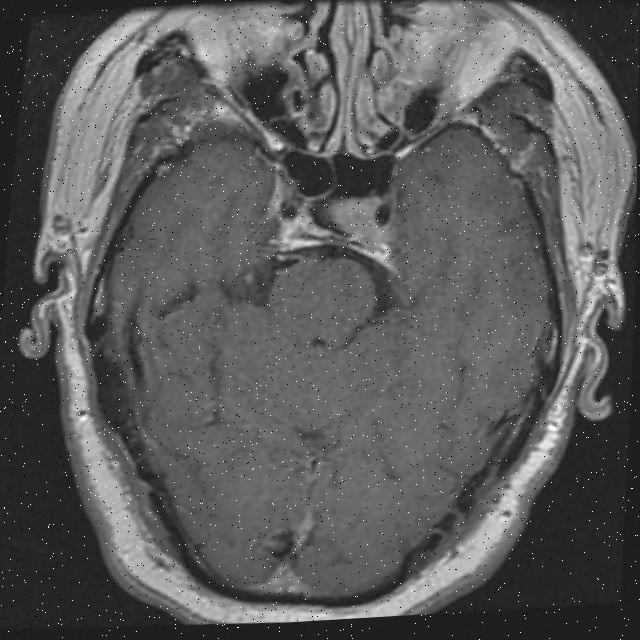Pituitary: (330, 185, 381, 248)
